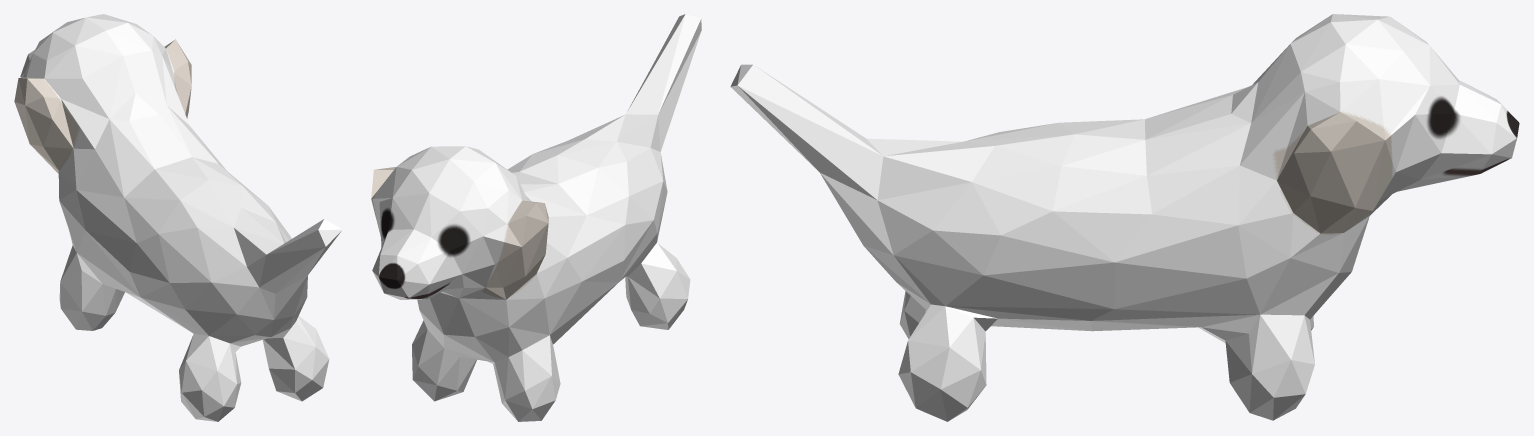
Rendered from animal_labrador_blob.obj.
3 renders of one model, left to right at view 1: azimuth 30°, elevation 25°; view 2: azimuth 150°, elevation 25°; view 3: azimuth 270°, elevation 25°, orthographic. The views are drawn at different scales.
Parts seen in each view (by area): view 1: animal_labrador_blob; view 2: animal_labrador_blob; view 3: animal_labrador_blob.
Part boxes in pixels (<box>): animal_labrador_blob: <box>14,14,342,421</box>; animal_labrador_blob: <box>371,14,701,421</box>; animal_labrador_blob: <box>730,14,1519,421</box>.
Bounding box in the file's own units: 0.3908 × 0.6121 × 1.2.
